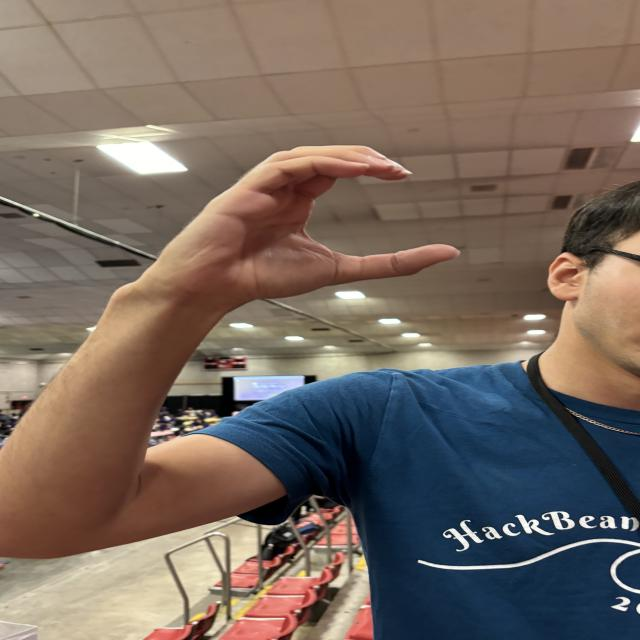C: (142, 133, 479, 300)
